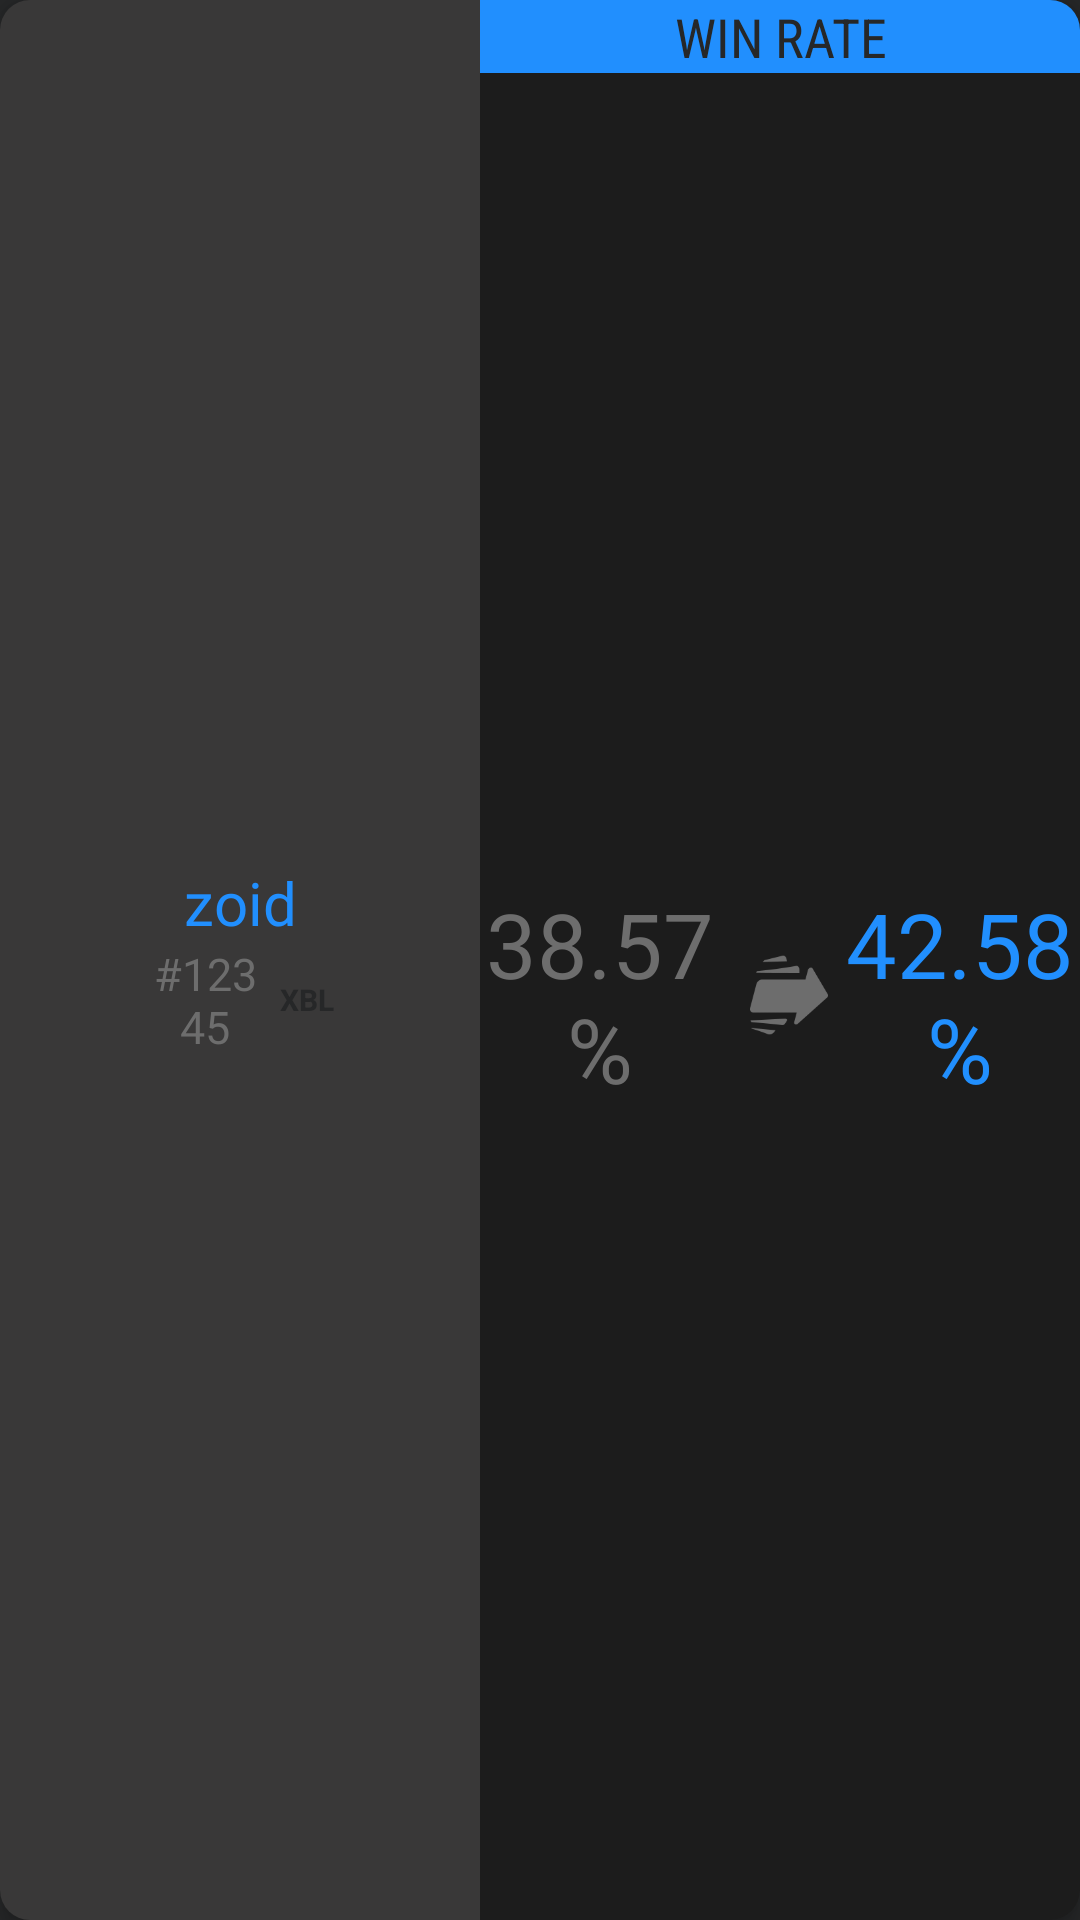

Screen size 1080*1920. Icon name, then its center in pixels as point (x, y):
arrow: point (789, 995)
